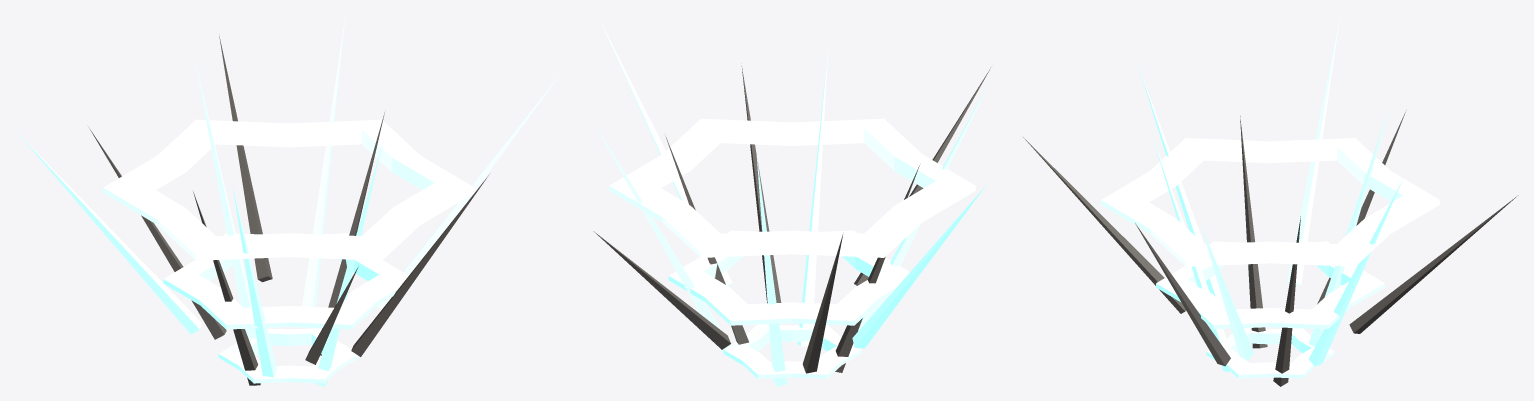
File: vfx_mutant_thorn_shroud.glb
3 views of the same model, side by side, from view 1: azimuth 30°, elevation 25°; view 2: azimuth 150°, elevation 25°; view 3: azimuth 270°, elevation 25° (orthographic). The views are drawn at different scales.
Visible parts, largest first — view 1: VFX_Mutant_Thorn; view 2: VFX_Mutant_Thorn; view 3: VFX_Mutant_Thorn.
Part boxes in pixels (x1=…): VFX_Mutant_Thorn: x1=15, y1=17, x2=561, y2=386; VFX_Mutant_Thorn: x1=593, y1=17, x2=991, y2=386; VFX_Mutant_Thorn: x1=1023, y1=15, x2=1518, y2=386.
Size of the model in its own units: 1.2 by 0.656 by 1.2.
